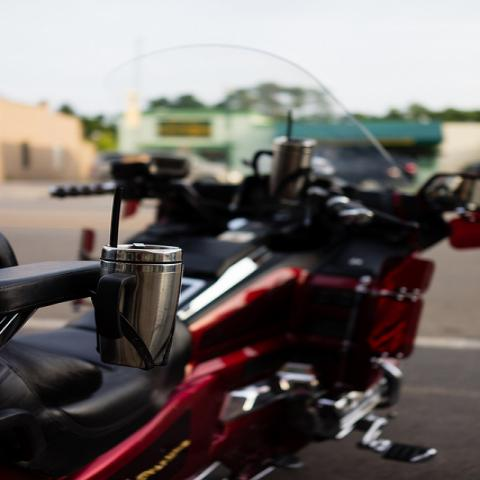motorcycle: (0, 42, 479, 473)
